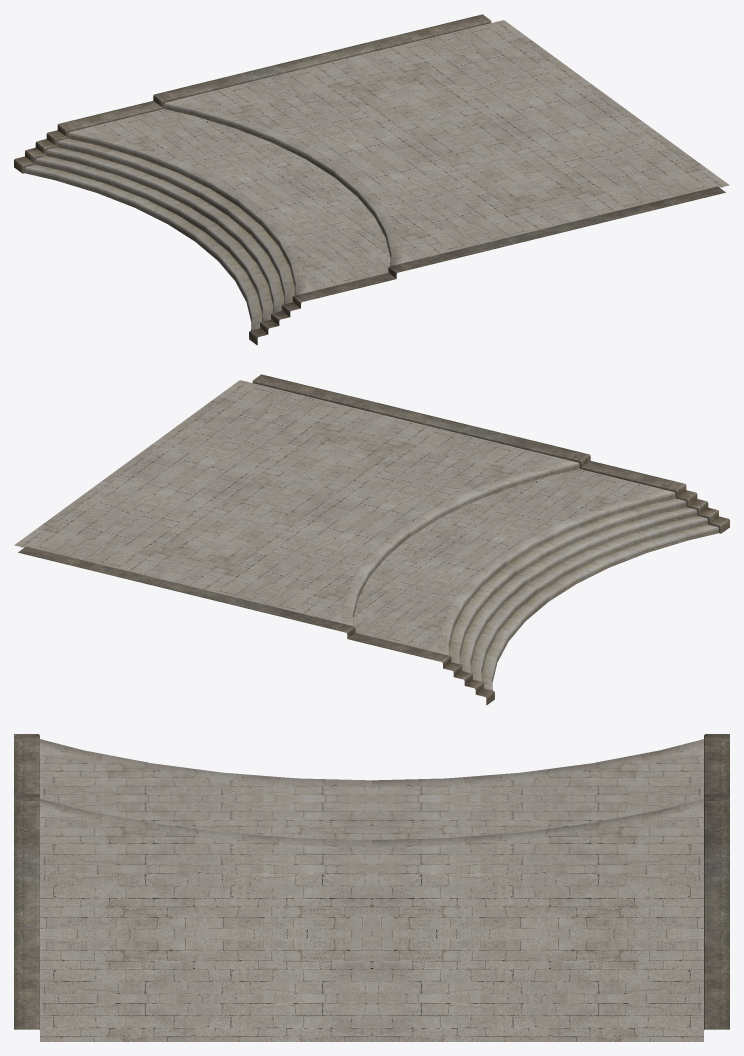
Rendered from Stairs6.FBX.
3 renders of one model, top to bottom at view 1: azimuth 30°, elevation 25°; view 2: azimuth 150°, elevation 25°; view 3: azimuth 270°, elevation 25°, orthographic. The views are drawn at different scales.
Visible parts, largest first — view 1: LV_Campagna_Uni_CityHStair02_SM_CJH.003; view 2: LV_Campagna_Uni_CityHStair02_SM_CJH.003; view 3: LV_Campagna_Uni_CityHStair02_SM_CJH.003.
Boxes of the visible parts, <box> form: LV_Campagna_Uni_CityHStair02_SM_CJH.003: <box>14,14,729,345</box>; LV_Campagna_Uni_CityHStair02_SM_CJH.003: <box>14,374,729,705</box>; LV_Campagna_Uni_CityHStair02_SM_CJH.003: <box>14,734,729,1041</box>.
Bounding box in the file's own units: 4.42 × 0.34 × 3.88.
8 materials, 8 textured.
